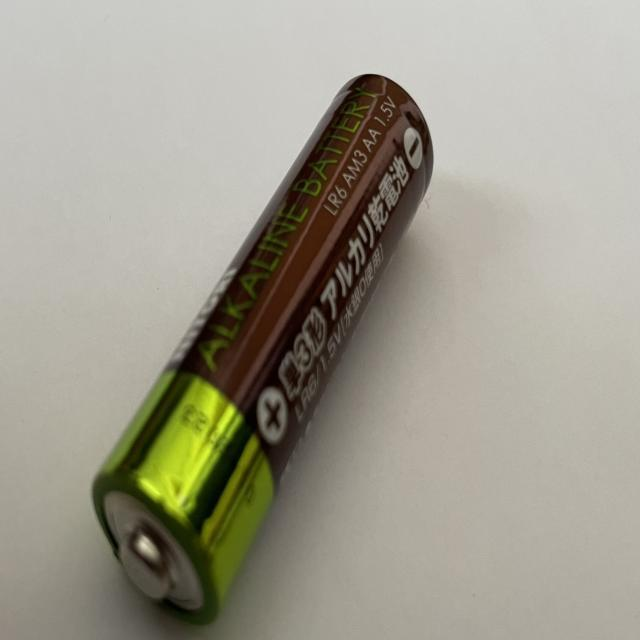AA: (92, 74, 435, 633)
